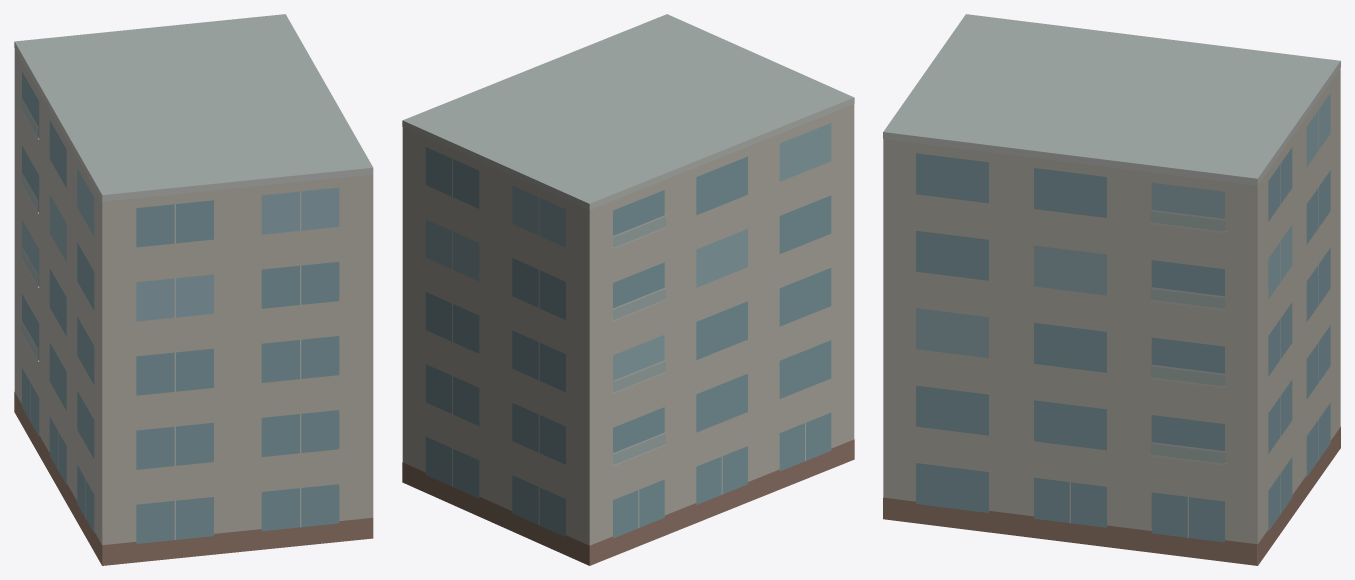
Rendered from survey-upis-33036514.glb.
The picture shows the model from 3 angles, left to right: view 1: azimuth 30°, elevation 25°; view 2: azimuth 150°, elevation 25°; view 3: azimuth 270°, elevation 25°; orthographic projection. The views are drawn at different scales.
Parts seen in each view (by area): view 1: survey-upis-33036514.tmp; view 2: survey-upis-33036514.tmp; view 3: survey-upis-33036514.tmp.
Boxes of the visible parts, x1,y1,x2,y2 form: survey-upis-33036514.tmp: (14, 14, 373, 565); survey-upis-33036514.tmp: (402, 14, 854, 565); survey-upis-33036514.tmp: (883, 14, 1340, 565).
Bounding box in the file's own units: 12.51 × 13.7 × 14.69.
